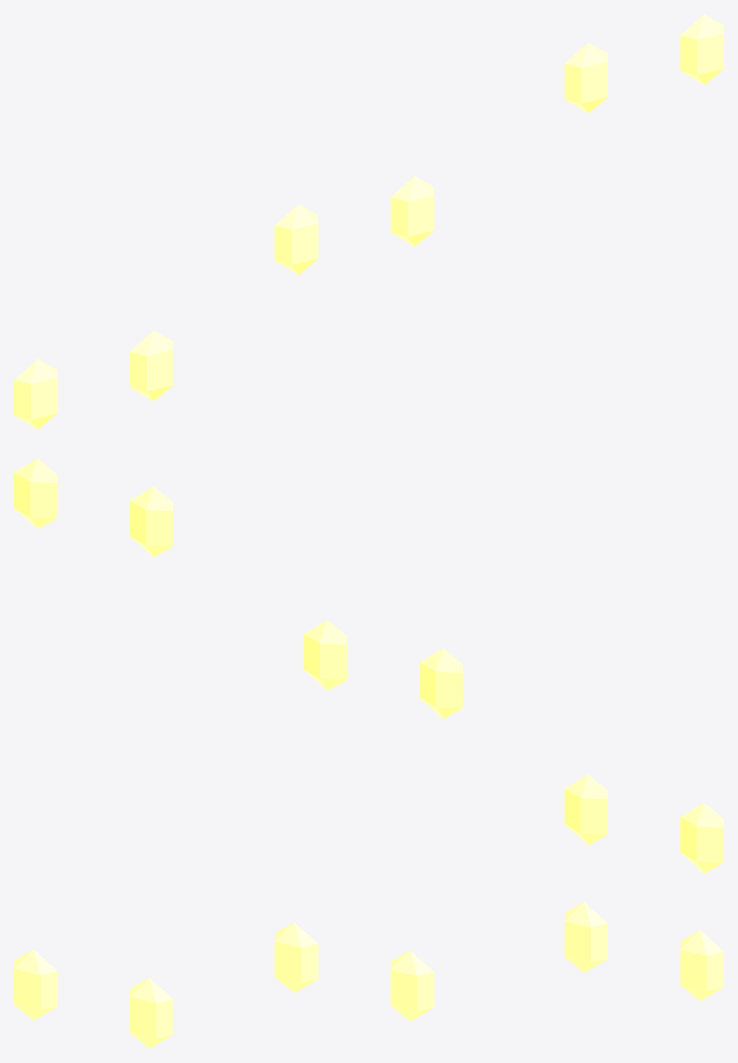
The model's file is eyes.glb.
The picture shows the model from 3 angles, top to bottom: view 1: azimuth 30°, elevation 25°; view 2: azimuth 150°, elevation 25°; view 3: azimuth 330°, elevation 25°; orthographic projection.
Visible parts, largest first — view 1: eyes; view 2: eyes; view 3: eyes.
Boxes of the visible parts, <box> form: eyes: <box>14,14,723,429</box>; eyes: <box>14,458,723,873</box>; eyes: <box>14,902,723,1048</box>.
Bounding box in the file's own units: 1.22 × 0.417 × 0.0423.
